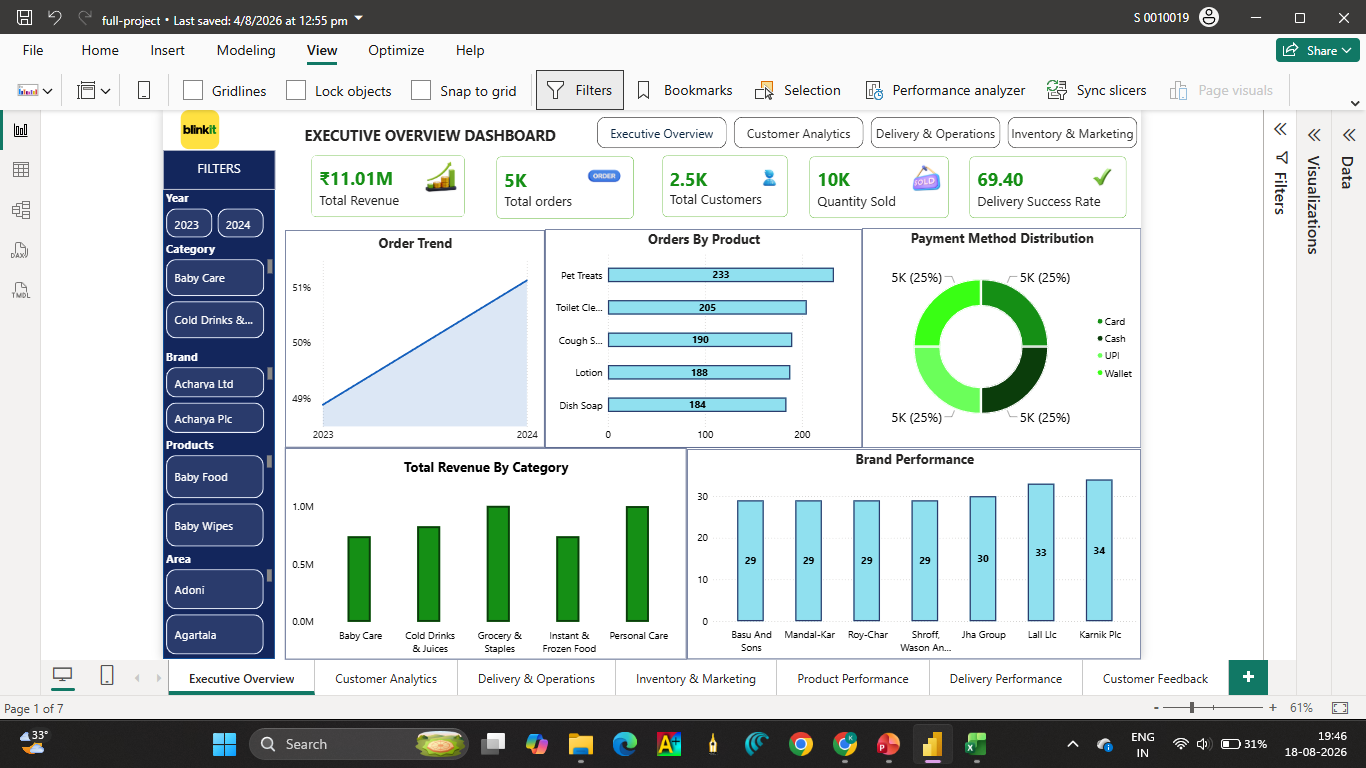

The page's visual inventory and layout, read from the dashboard file:
{"tool":"powerbi","page":{"name":"Executive Overview ","canvas":[1600,900],"ordinal":0},"visuals":[{"type":"cardVisual","fields":{"Data":["Count(blinkit_customers1.customer_id)"]},"box":[800.2,57.3,239.8,135.4],"z":0,"group":"g1"},{"type":"shape","box":[0,65.5,183.3,832.9],"z":0},{"type":"image","box":[978.2,88.6,27.5,44.9],"z":1000,"group":"g1"},{"type":"clusteredColumnChart","title":"Total Revenue By Category","fields":{"Category":["blinkit_products1.category Hierarchy.category","blinkit_products1.category Hierarchy.brand"],"Y":["blinkit_customer_feedback1.sum of order total"]},"box":[200,553.6,656.5,346.4],"z":1000},{"type":"lineChart","title":"Order Trend","fields":{"Category":["blinkit_orders1.order_date.Variation.Date Hierarchy.Year","blinkit_orders1.order_date.Variation.Date Hierarchy.Quarter","blinkit_orders1.order_date.Variation.Date Hierarchy.Month","blinkit_orders1.order_date.Variation.Date Hierarchy.Day"],"Y":["CountNonNull(blinkit_orders1.order_id)"]},"box":[199.8,196.2,424.8,356.4],"z":2000},{"type":"advancedSlicerVisual","fields":{"Values":["blinkit_orders1.order_date.Variation.Date Hierarchy.Year"]},"box":[0,130.9,171.8,83.5],"z":3000},{"type":"advancedSlicerVisual","title":"Category","fields":{"Values":["blinkit_products1.category"]},"box":[0,213.8,184.9,165.3],"z":4000},{"type":"advancedSlicerVisual","title":"Products","fields":{"Values":["blinkit_products1.product_name"]},"box":[0,535.1,183.3,186.5],"z":5000},{"type":"donutChart","title":"Payment Method Distribution","fields":{"Category":["blinkit_orders1.payment_method"],"Y":["CountNonNull(blinkit_customer_feedback1.order_id)"]},"box":[1143,192.6,457.2,360],"z":6000},{"type":"clusteredBarChart","title":"Orders By Product","fields":{"Category":["blinkit_products1.product_name"],"Y":["CountNonNull(blinkit_orders1.order_id)"]},"box":[624.6,194.4,518.8,358],"z":7000},{"type":"cardVisual","fields":{"Data":["CountNonNull(blinkit_orders1.order_id)"]},"box":[528.5,58.9,259.2,136.8],"z":8000,"group":"g5"},{"type":"clusteredColumnChart","title":"Brand Performance","fields":{"Category":["blinkit_products1.brand"],"Y":["CountNonNull(blinkit_orders1.order_id)"]},"box":[856.8,554.4,743.4,343.8],"z":8000},{"type":"cardVisual","fields":{"Data":["Sum(blinkit_orders1.order_total)"]},"box":[225.8,57.3,285.8,136],"z":9000,"group":"g2"},{"type":"group","id":"g1","title":"Group 2","box":[800.2,57.3,240.5,137.5],"z":9000},{"type":"image","box":[0,0,121.1,63.8],"z":10000,"group":"g3"},{"type":"group","id":"g2","title":"Group 3","box":[225.8,57.3,286.4,137.5],"z":10000},{"type":"cardVisual","fields":{"Data":["Sum(blinkit_order_items1.quantity)"]},"box":[1040.4,59.4,262.8,135],"z":10000,"group":"g4"},{"type":"group","id":"g3","title":"Group 1","box":[0,0,738,63.8],"z":11000},{"type":"cardVisual","fields":{"Data":["blinkit_customer_feedback1.Delivery Success Rate"]},"box":[1302.5,58.9,291.6,135],"z":11000,"group":"g6"},{"type":"advancedSlicerVisual","title":"Area","fields":{"Values":["blinkit_customers1.area"]},"box":[0,721.6,183.3,176.7],"z":12000},{"type":"textbox","box":[121.1,3.3,616.9,60.5],"z":13000,"group":"g3"},{"type":"group","id":"g4","title":"Group 4","box":[1040.4,59.4,262.8,135],"z":13000},{"type":"image","box":[425.2,75.6,59.4,68.1],"z":13001,"group":"g2"},{"type":"group","id":"g5","title":"Group 5","box":[528.5,58.9,258.5,137.5],"z":14000},{"type":"group","id":"g6","title":"Group 6","box":[1302.5,58.9,291.3,135.8],"z":15000},{"type":"image","box":[1517.1,77.7,37.7,62.3],"z":15001,"group":"g6"},{"type":"image","box":[685.9,67.4,73.9,79.7],"z":15002,"group":"g5"},{"type":"image","box":[1223.3,86.4,50.7,52.2],"z":15002,"group":"g4"},{"type":"pageNavigator","box":[710,11.4,884.3,51.4],"z":16000},{"type":"textbox","box":[0,64.8,183.6,64.8],"z":17000},{"type":"advancedSlicerVisual","title":"Brand","fields":{"Values":["blinkit_products1.brand"]},"box":[0,390.5,184.1,144.5],"z":18000}]}

Visuals, with their boxes on the page's 1600x900 design canvas (x1, y1, x2, y2). These are canvas units, not pixel positions in the 1366x768 screenshot, which may show the page scaled, cropped or inside an application window:
cardVisual - Count(blinkit_customers1.customer_id): {"left": 800, "top": 57, "right": 1040, "bottom": 193}
shape: {"left": 0, "top": 66, "right": 183, "bottom": 898}
image: {"left": 978, "top": 89, "right": 1006, "bottom": 134}
"Total Revenue By Category" clusteredColumnChart: {"left": 200, "top": 554, "right": 856, "bottom": 900}
"Order Trend" lineChart: {"left": 200, "top": 196, "right": 625, "bottom": 553}
advancedSlicerVisual - blinkit_orders1.order_date.Variation.Date Hierarchy.Year: {"left": 0, "top": 131, "right": 172, "bottom": 214}
"Category" advancedSlicerVisual: {"left": 0, "top": 214, "right": 185, "bottom": 379}
"Products" advancedSlicerVisual: {"left": 0, "top": 535, "right": 183, "bottom": 722}
"Payment Method Distribution" donutChart: {"left": 1143, "top": 193, "right": 1600, "bottom": 553}
"Orders By Product" clusteredBarChart: {"left": 625, "top": 194, "right": 1143, "bottom": 552}
cardVisual - CountNonNull(blinkit_orders1.order_id): {"left": 528, "top": 59, "right": 788, "bottom": 196}
"Brand Performance" clusteredColumnChart: {"left": 857, "top": 554, "right": 1600, "bottom": 898}
cardVisual - Sum(blinkit_orders1.order_total): {"left": 226, "top": 57, "right": 512, "bottom": 193}
"Group 2" group: {"left": 800, "top": 57, "right": 1041, "bottom": 195}
image: {"left": 0, "top": 0, "right": 121, "bottom": 64}
"Group 3" group: {"left": 226, "top": 57, "right": 512, "bottom": 195}
cardVisual - Sum(blinkit_order_items1.quantity): {"left": 1040, "top": 59, "right": 1303, "bottom": 194}
"Group 1" group: {"left": 0, "top": 0, "right": 738, "bottom": 64}
cardVisual - blinkit_customer_feedback1.Delivery Success Rate: {"left": 1302, "top": 59, "right": 1594, "bottom": 194}
"Area" advancedSlicerVisual: {"left": 0, "top": 722, "right": 183, "bottom": 898}
textbox: {"left": 121, "top": 3, "right": 738, "bottom": 64}
"Group 4" group: {"left": 1040, "top": 59, "right": 1303, "bottom": 194}
image: {"left": 425, "top": 76, "right": 485, "bottom": 144}
"Group 5" group: {"left": 528, "top": 59, "right": 787, "bottom": 196}
"Group 6" group: {"left": 1302, "top": 59, "right": 1594, "bottom": 195}
image: {"left": 1517, "top": 78, "right": 1555, "bottom": 140}
image: {"left": 686, "top": 67, "right": 760, "bottom": 147}
image: {"left": 1223, "top": 86, "right": 1274, "bottom": 139}
pageNavigator: {"left": 710, "top": 11, "right": 1594, "bottom": 63}
textbox: {"left": 0, "top": 65, "right": 184, "bottom": 130}
"Brand" advancedSlicerVisual: {"left": 0, "top": 390, "right": 184, "bottom": 535}
